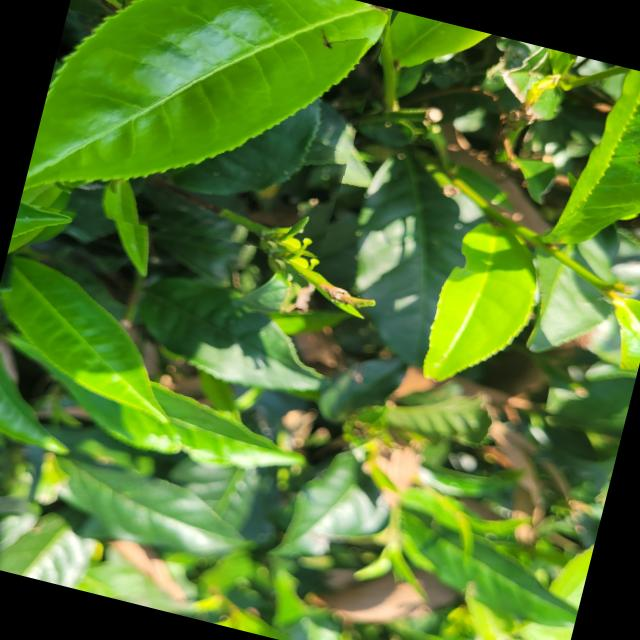Catagory A(1-2 days): (19, 0, 393, 278)
